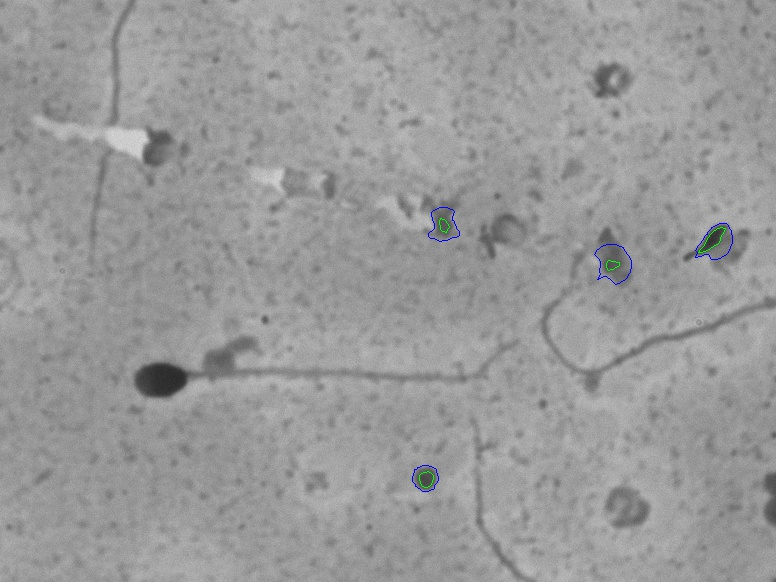Abnormal: (94, 270, 530, 433)
